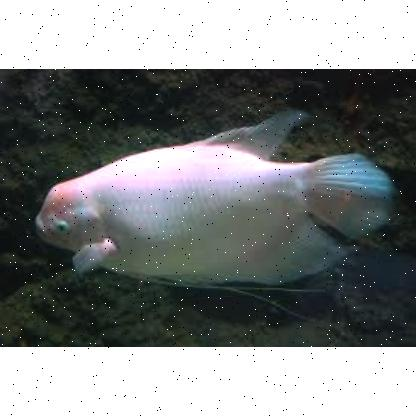gurame: (38, 132, 366, 290)
